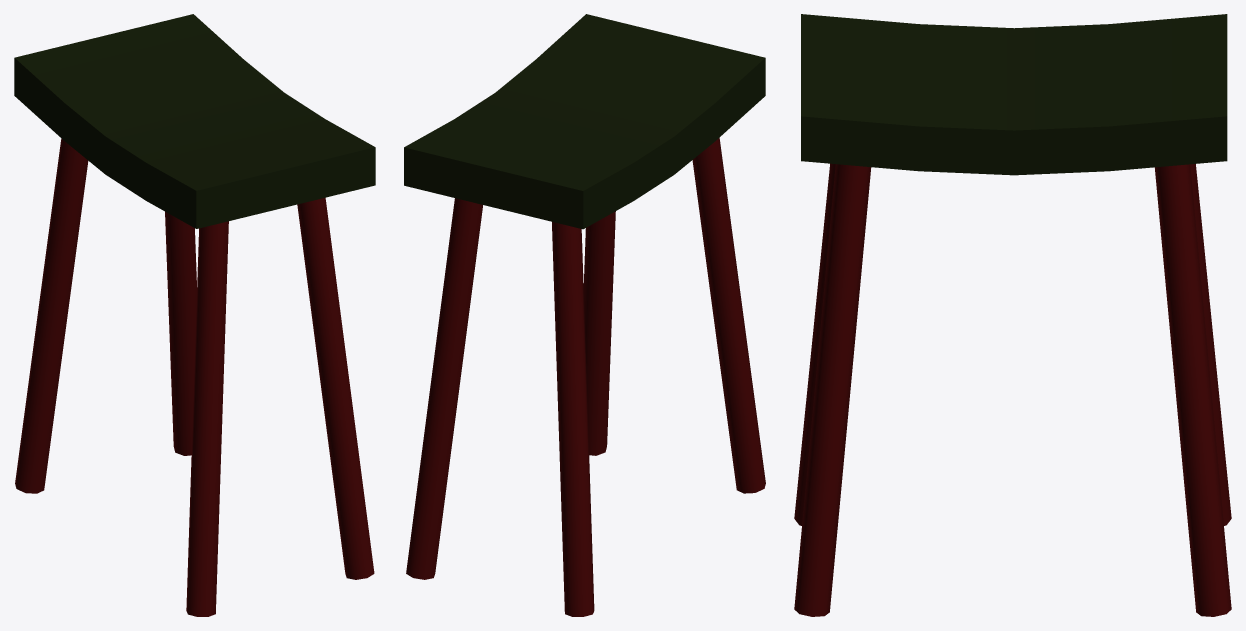
File: Stool_Naughty_2.FBX
3 renders of one model, left to right at view 1: azimuth 30°, elevation 25°; view 2: azimuth 150°, elevation 25°; view 3: azimuth 270°, elevation 25°, orthographic. The views are drawn at different scales.
Parts seen in each view (by area): view 1: Stool_Legs_Dynamic; view 2: Stool_Legs_Dynamic; view 3: Stool_Legs_Dynamic.
Part boxes in pixels (x1=…): Stool_Legs_Dynamic: x1=14, y1=14, x2=375, y2=616; Stool_Legs_Dynamic: x1=404, y1=14, x2=765, y2=616; Stool_Legs_Dynamic: x1=794, y1=14, x2=1231, y2=616.
Size of the model in its own units: 15.49 by 34.31 by 27.06.
